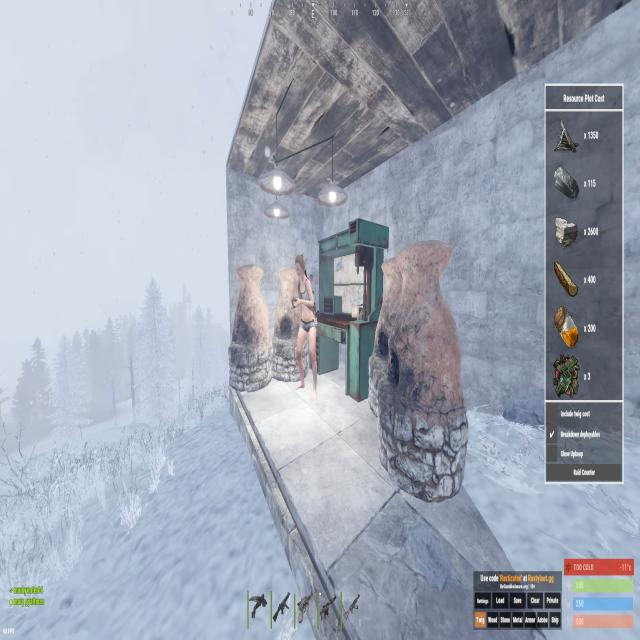Player: (291, 252, 320, 406)
